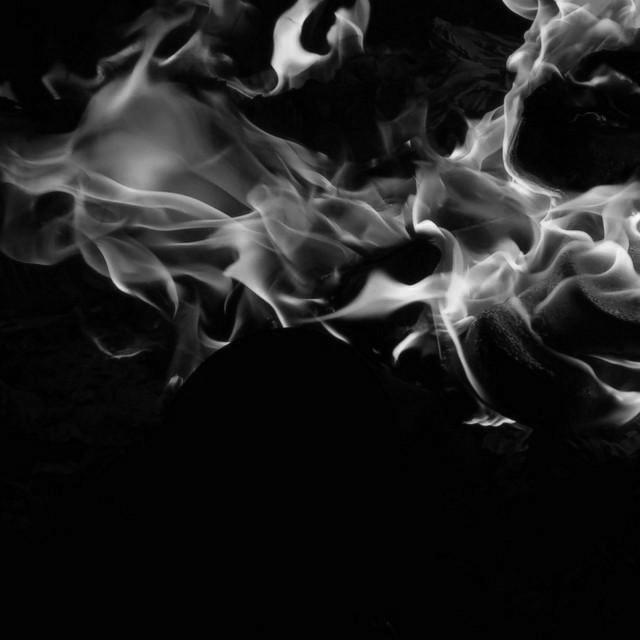Fire: (69, 4, 610, 420)
